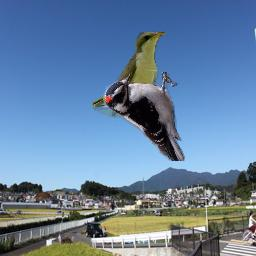Cuckoo: (92, 29, 168, 118)
Woodpecker: (103, 72, 185, 161)
